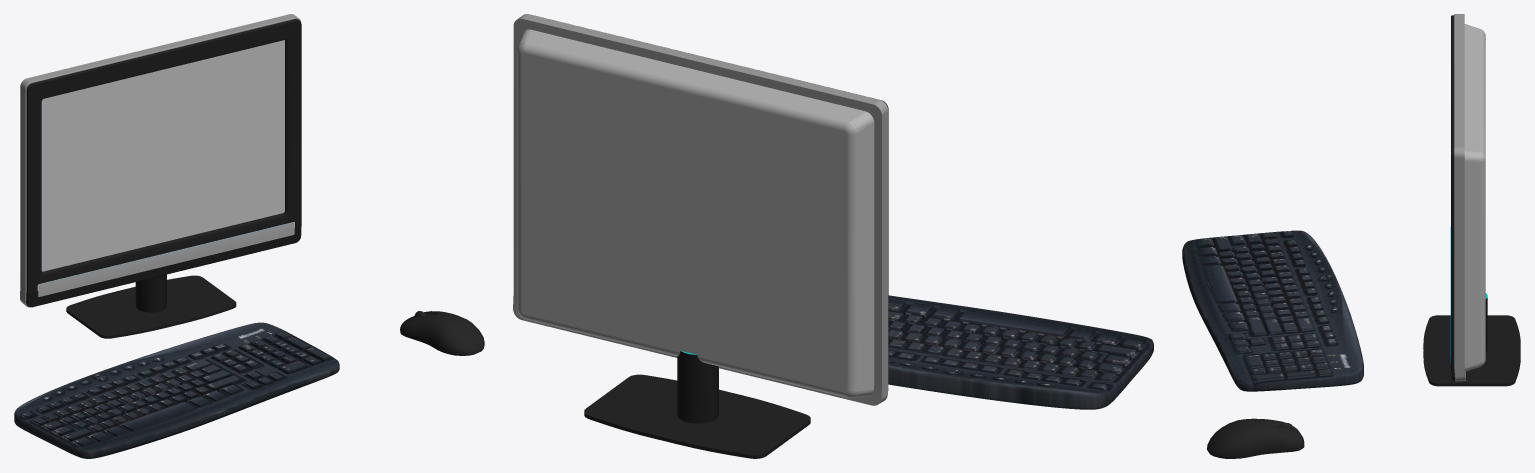
Rendered from computer.gltf.
3 views of the same model, side by side, from view 1: azimuth 30°, elevation 25°; view 2: azimuth 150°, elevation 25°; view 3: azimuth 270°, elevation 25° (orthographic). The views are drawn at different scales.
Parts seen in each view (by area): view 1: Object_14, Object_15, Object_10, Object_8, Object_11, Object_13, Object_12; view 2: Object_7, Object_15, Object_8, Object_10, Object_12; view 3: Object_15, Object_7, Object_10, Object_8, Object_13.
Boxes of the visible parts, x1,y1,x2,y2 form: Object_14: (42, 40, 284, 271); Object_15: (14, 322, 339, 458); Object_10: (26, 19, 301, 338); Object_8: (20, 14, 301, 307); Object_11: (38, 222, 294, 296); Object_13: (400, 311, 484, 355); Object_12: (135, 274, 166, 312); Object_7: (517, 29, 874, 398); Object_15: (888, 295, 1153, 409); Object_8: (513, 14, 888, 405); Object_10: (584, 100, 888, 458); Object_12: (677, 351, 718, 423); Object_15: (1182, 230, 1363, 391); Object_7: (1464, 24, 1485, 371); Object_10: (1423, 15, 1520, 386); Object_8: (1454, 14, 1465, 381); Object_13: (1207, 418, 1304, 458).
Bounding box in the file's own units: 20.23 × 11.75 × 13.18.
